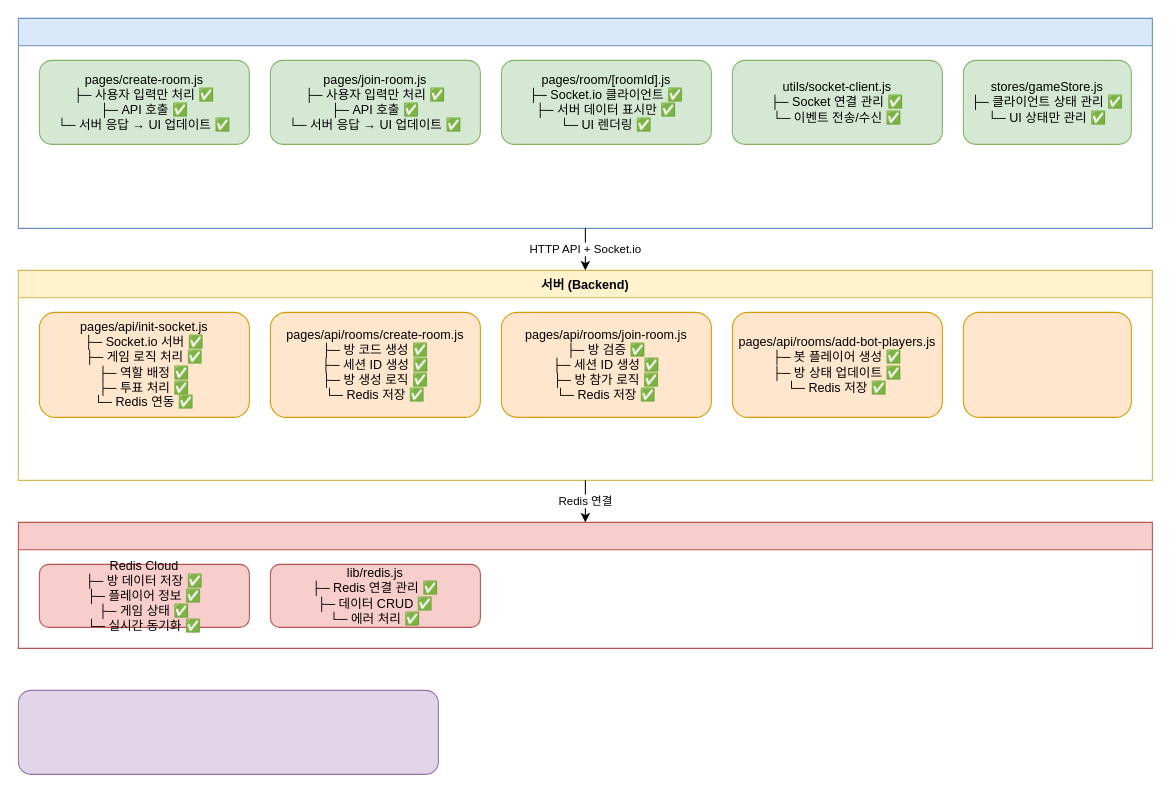
This 1171x793 diagram has some shape labels left out. The box of each missing label's shape, as (x1, y1, x2, y2) in pixels:
data/game-rules.js ├─ 역할 배정 로직 ✅ ├─ 게임 규칙 ✅ └─ 승리 조건 ✅: (962, 311, 1131, 417)
Redis Database: (17, 521, 1152, 648)
역할 분리 원칙 ✅ 클라이언트: UI + 사용자 입력 ✅ 서버: 비즈니스 로직 + 데이터 처리 ✅ 데이터베이스: 데이터 저장 + 조회: (17, 689, 438, 774)
클라이언트 (Frontend): (17, 17, 1152, 228)
